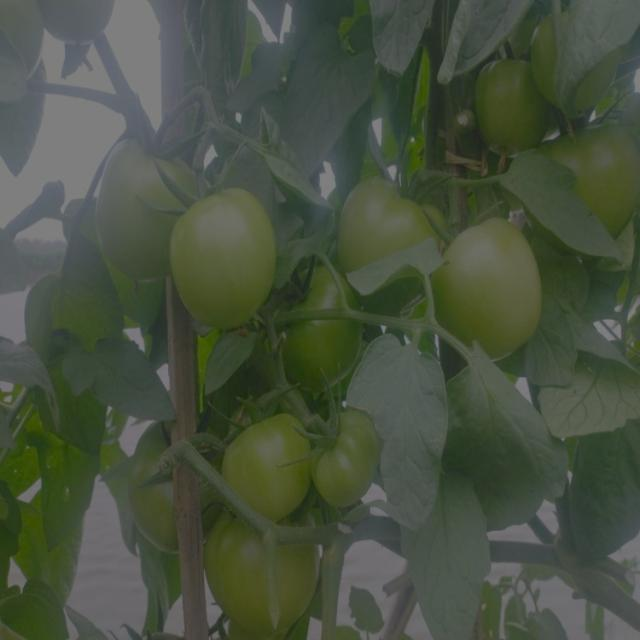tomato: (163, 175, 278, 331), (431, 213, 550, 363), (328, 166, 440, 307), (265, 261, 376, 394), (205, 519, 327, 640), (92, 122, 196, 262), (212, 400, 319, 523), (546, 118, 638, 232), (127, 410, 199, 551), (535, 2, 620, 120), (469, 40, 548, 147), (314, 397, 384, 504)
